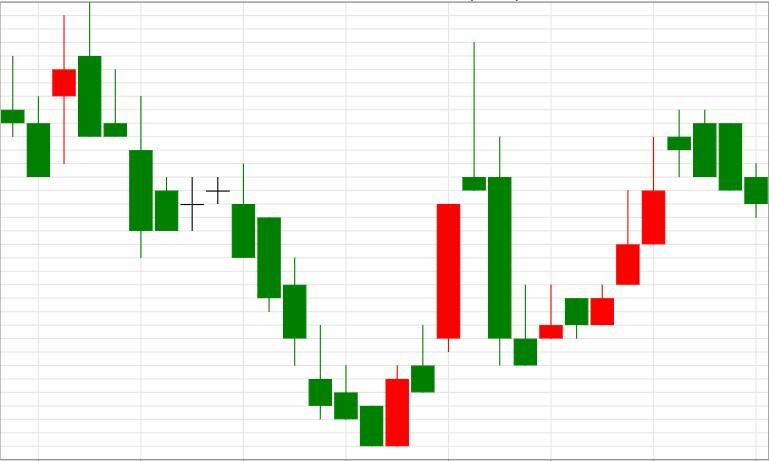bullish_engulfing_rise: (233, 163, 409, 446)
